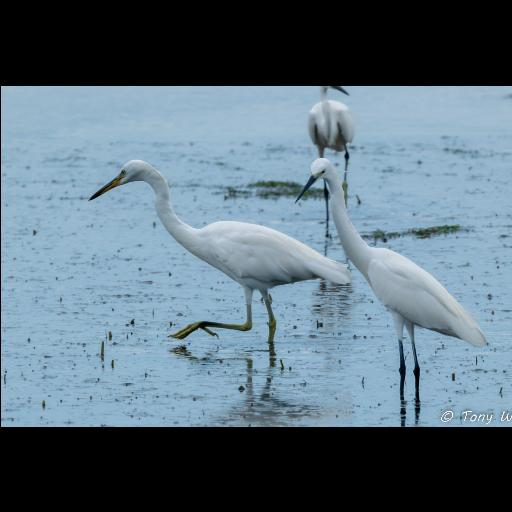chinese_egret: (87, 158, 353, 344)
